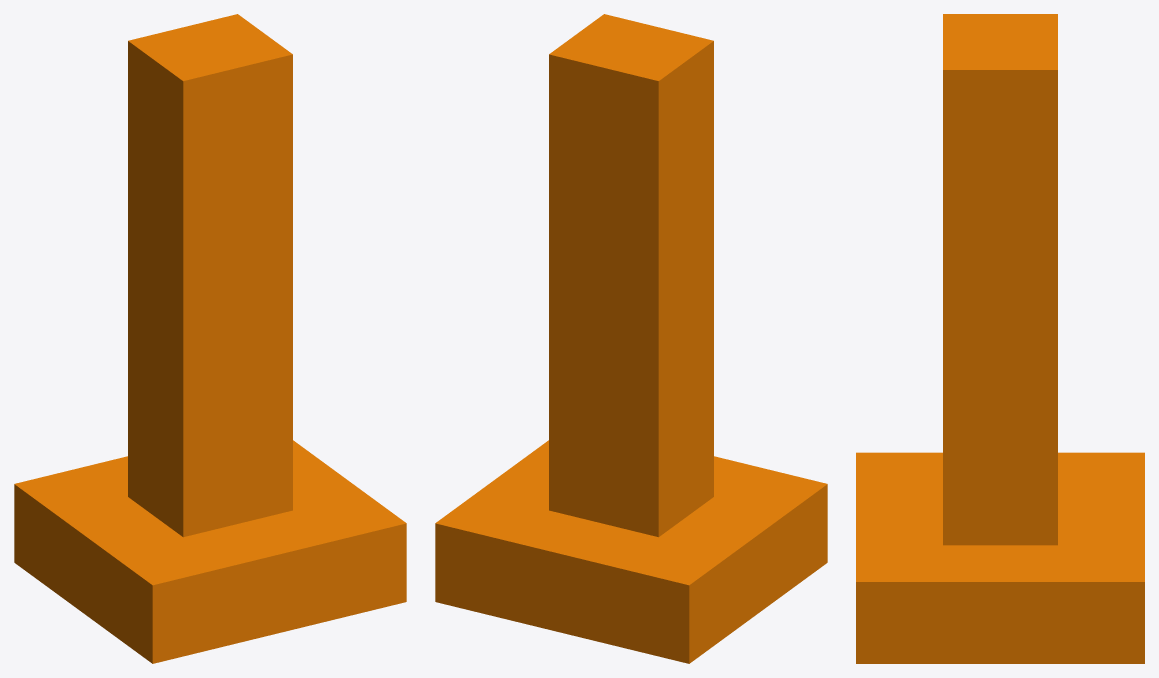
Rendered from Part Studio 1 - Part 48.dae.
The picture shows the model from 3 angles, left to right: view 1: azimuth 30°, elevation 25°; view 2: azimuth 150°, elevation 25°; view 3: azimuth 270°, elevation 25°; orthographic projection. The views are drawn at different scales.
Visible parts, largest first — view 1: ID2; view 2: ID2; view 3: ID2.
Boxes of the visible parts, x1,y1,x2,y2 form: ID2: [14, 14, 406, 663]; ID2: [435, 14, 827, 663]; ID2: [856, 14, 1144, 663].
Bounding box in the file's own units: 0.0338 × 0.0319 × 0.068.
